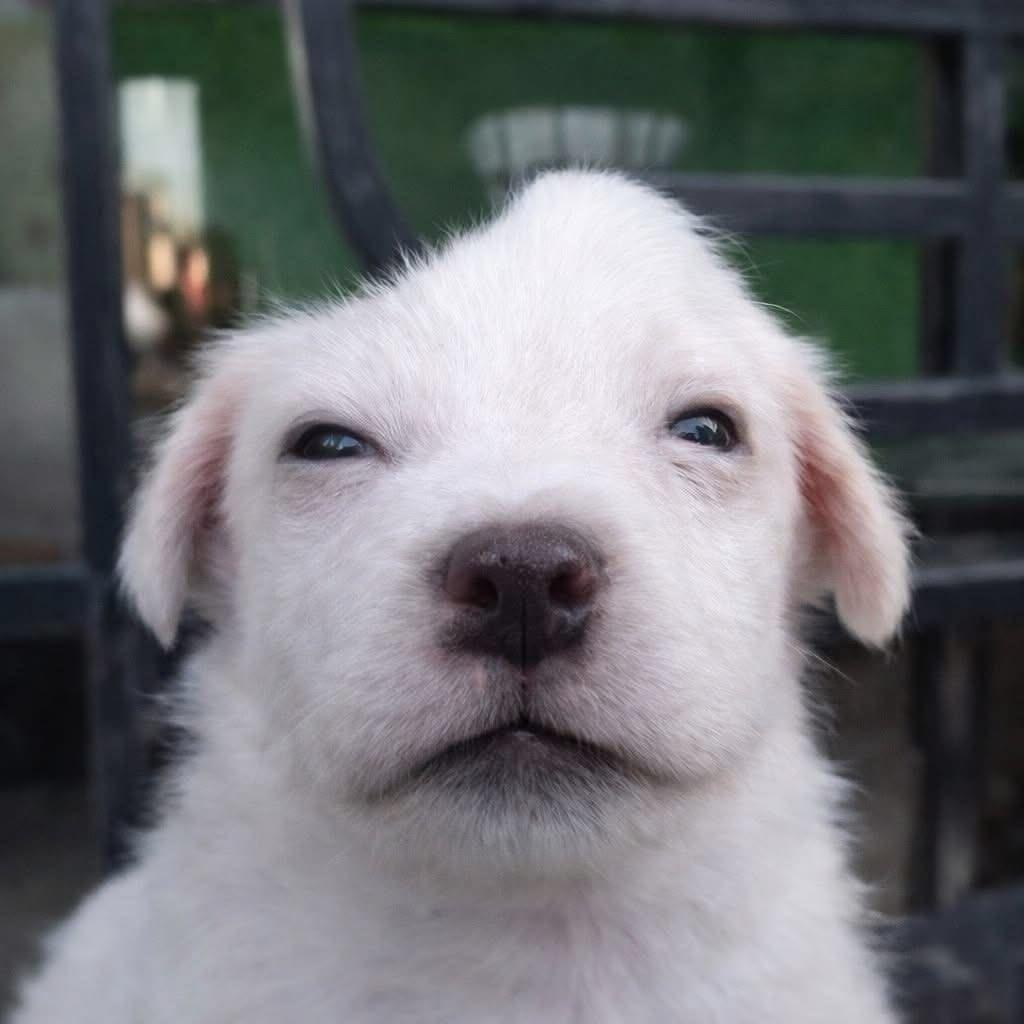puppy-dog: (1, 150, 933, 1024)
